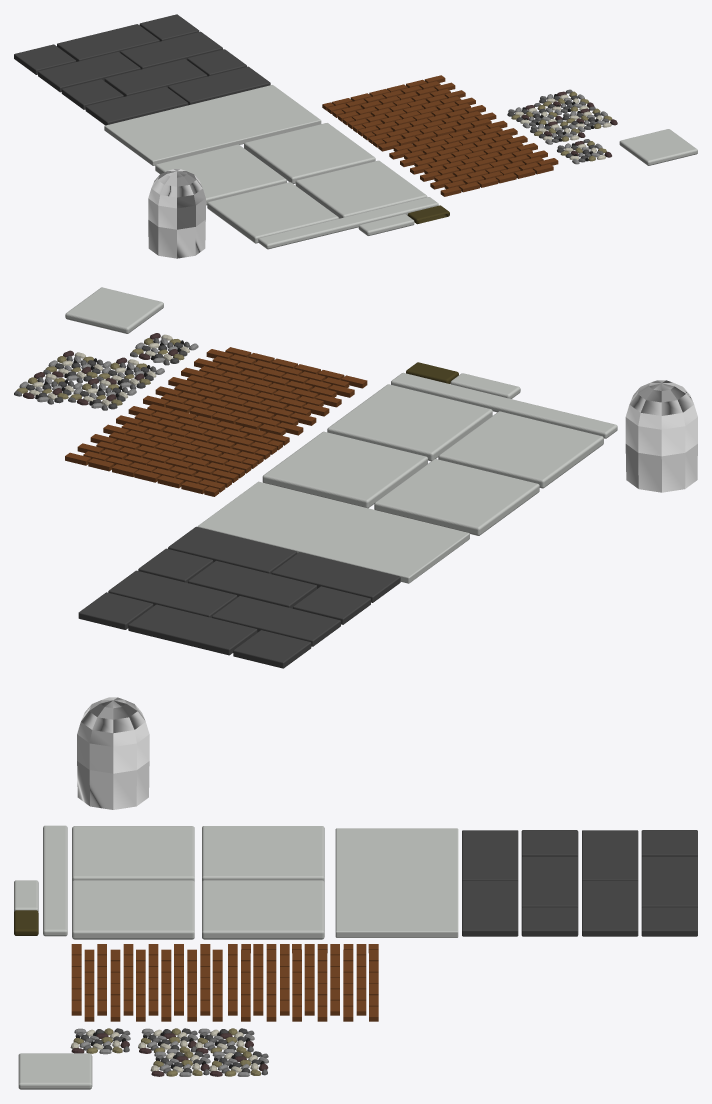
Rendered from Lastroni.fbx.
3 views of the same model, one above another, from view 1: azimuth 30°, elevation 25°; view 2: azimuth 150°, elevation 25°; view 3: azimuth 270°, elevation 25° (orthographic). The views are drawn at different scales.
Parts seen in each view (by area): view 1: lastre0, Laterizio0, Lastre2, Mattoncini1, Mattoncini0, capitello0, Sassolini1, Lastre1, Lastre1_1, Sassolini0, Lastra3, Tombino_1; view 2: lastre0, Laterizio0, Lastre2, Mattoncini1, Mattoncini0, capitello0, Sassolini1, Lastre1, Lastre1_1, Sassolini0, Lastra3, Tombino_1; view 3: lastre0, Laterizio0, Lastre2, Mattoncini1, Mattoncini0, capitello0, Sassolini1, Lastre1, Lastre1_1, Sassolini0, Lastra3, Tombino_1.
Boxes of the visible parts, bbox=[...] form: lastre0: bbox=[155, 123, 427, 243]; Laterizio0: bbox=[14, 14, 270, 125]; Lastre2: bbox=[104, 85, 321, 165]; Mattoncini1: bbox=[322, 75, 496, 151]; Mattoncini0: bbox=[389, 120, 558, 196]; capitello0: bbox=[148, 169, 205, 258]; Sassolini1: bbox=[507, 89, 617, 144]; Lastre1: bbox=[258, 197, 438, 249]; Lastre1_1: bbox=[619, 129, 697, 165]; Sassolini0: bbox=[557, 139, 611, 164]; Lastra3: bbox=[358, 214, 414, 235]; Tombino_1: bbox=[407, 205, 449, 224]; lastre0: bbox=[262, 384, 603, 535]; Laterizio0: bbox=[78, 526, 400, 668]; Lastre2: bbox=[197, 481, 469, 583]; Mattoncini1: bbox=[65, 404, 289, 496]; Mattoncini0: bbox=[143, 347, 367, 435]; capitello0: bbox=[625, 380, 697, 492]; Sassolini1: bbox=[14, 350, 164, 410]; Lastre1: bbox=[391, 372, 617, 438]; Lastre1_1: bbox=[65, 287, 163, 333]; Sassolini0: bbox=[130, 333, 198, 365]; Lastra3: bbox=[450, 373, 520, 398]; Tombino_1: bbox=[406, 362, 458, 383]; lastre0: bbox=[72, 826, 324, 939]; Laterizio0: bbox=[462, 830, 697, 936]; Lastre2: bbox=[335, 828, 458, 937]; Mattoncini1: bbox=[228, 944, 378, 1021]; Mattoncini0: bbox=[71, 944, 222, 1021]; capitello0: bbox=[77, 697, 149, 809]; Sassolini1: bbox=[138, 1028, 268, 1076]; Lastre1: bbox=[43, 825, 67, 936]; Lastre1_1: bbox=[18, 1053, 92, 1089]; Sassolini0: bbox=[70, 1028, 130, 1054]; Lastra3: bbox=[14, 880, 38, 911]; Tombino_1: bbox=[14, 910, 38, 935].
Size of the model in its own units: 301 by 43.57 by 279.
